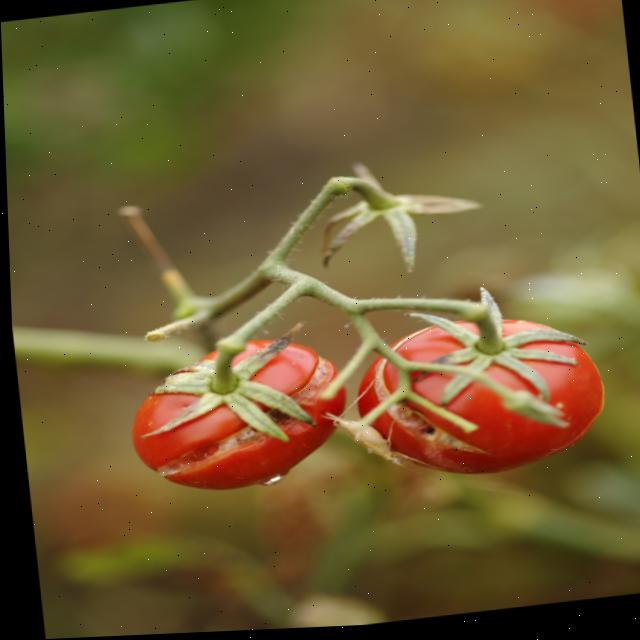damaged: (327, 294, 622, 498), (111, 322, 352, 508)
